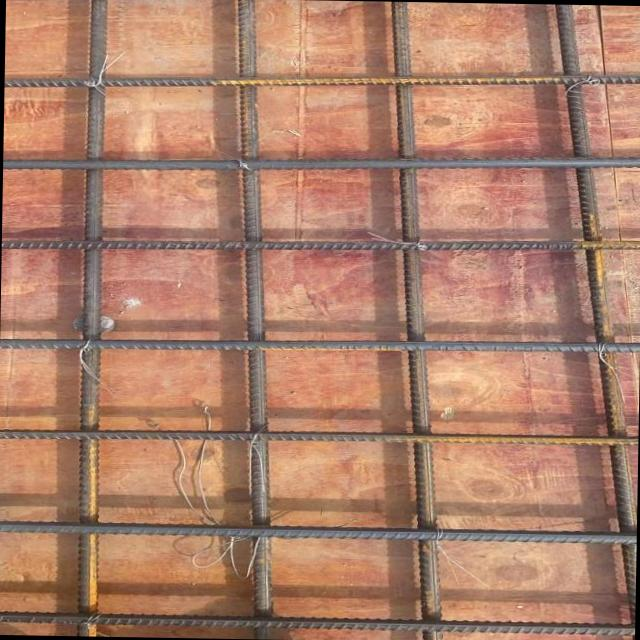ribbed bar: (545, 4, 640, 621), (379, 2, 454, 640), (220, 0, 285, 638), (71, 0, 110, 635), (5, 62, 640, 99), (3, 146, 640, 181), (2, 228, 640, 260), (1, 331, 638, 358), (0, 520, 635, 546), (0, 612, 633, 636), (0, 425, 637, 448)
